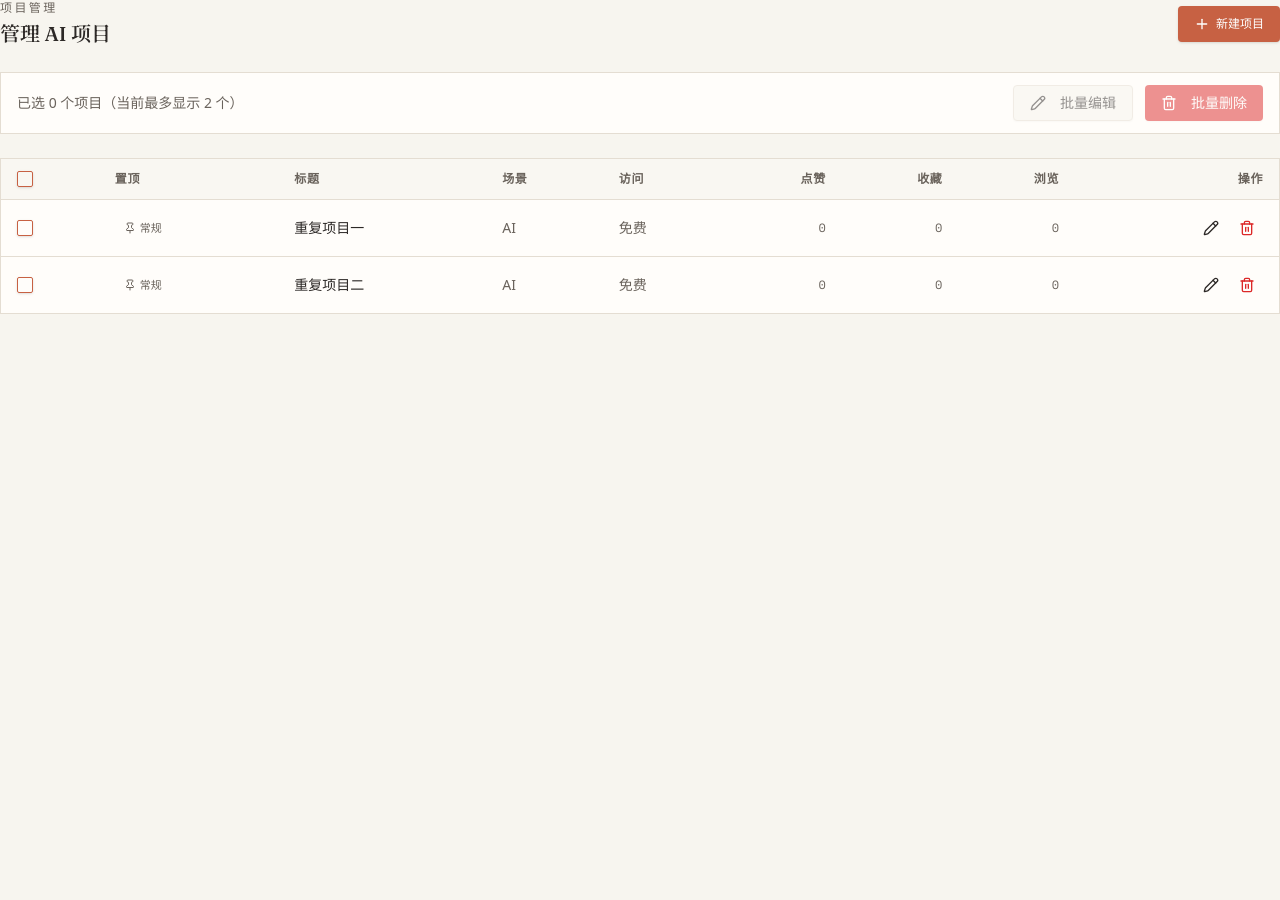
AdminProjects save › deletes only the selected projects after explicit confirmation
Click the checkbox named "选择项目 重复项目一" at (25, 228), box x1=17 y1=220 x2=33 y2=236
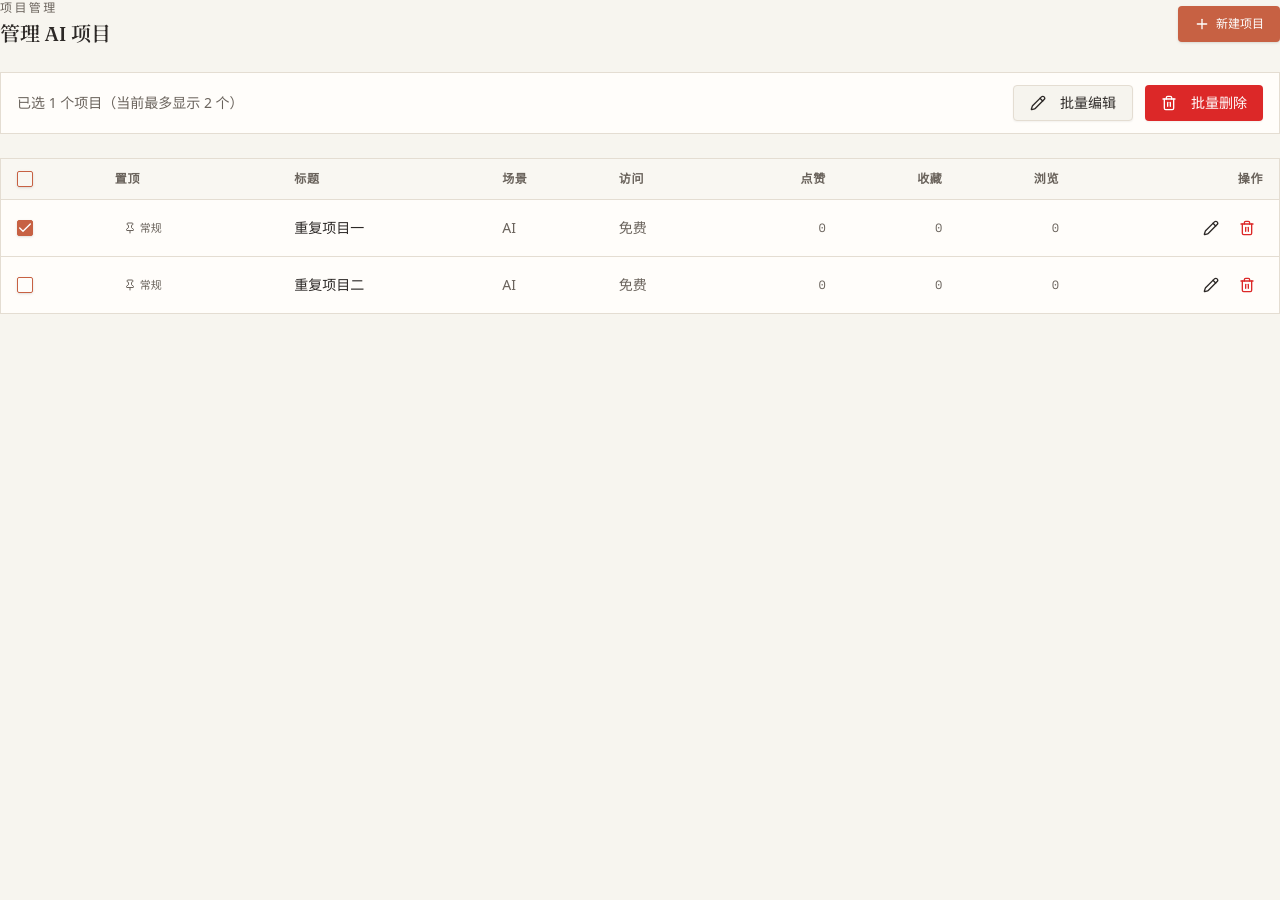
Click the button "批量删除" at (1204, 103), box x1=1145 y1=85 x2=1263 y2=121
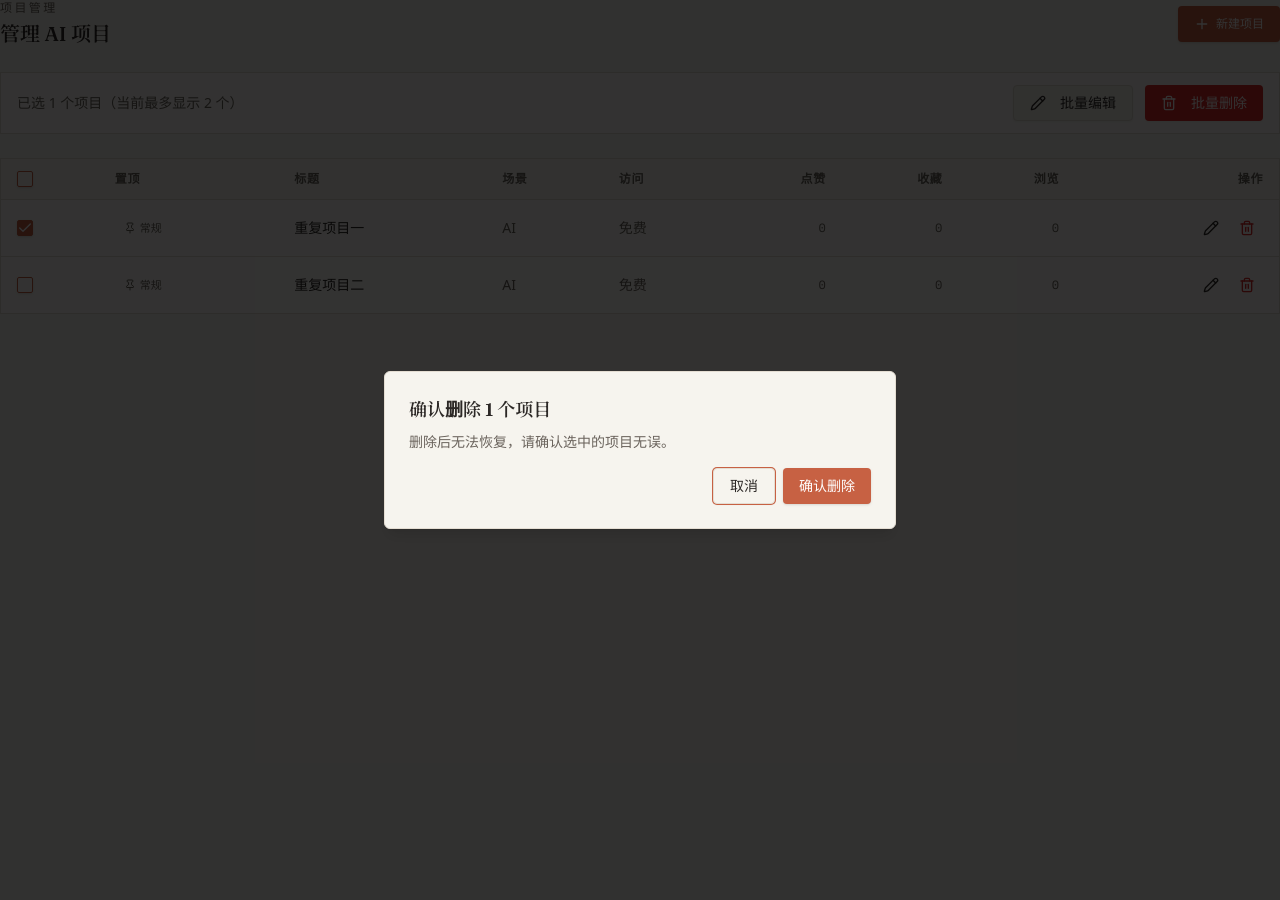
Click the button "确认删除" at (827, 486), box x1=783 y1=468 x2=871 y2=504
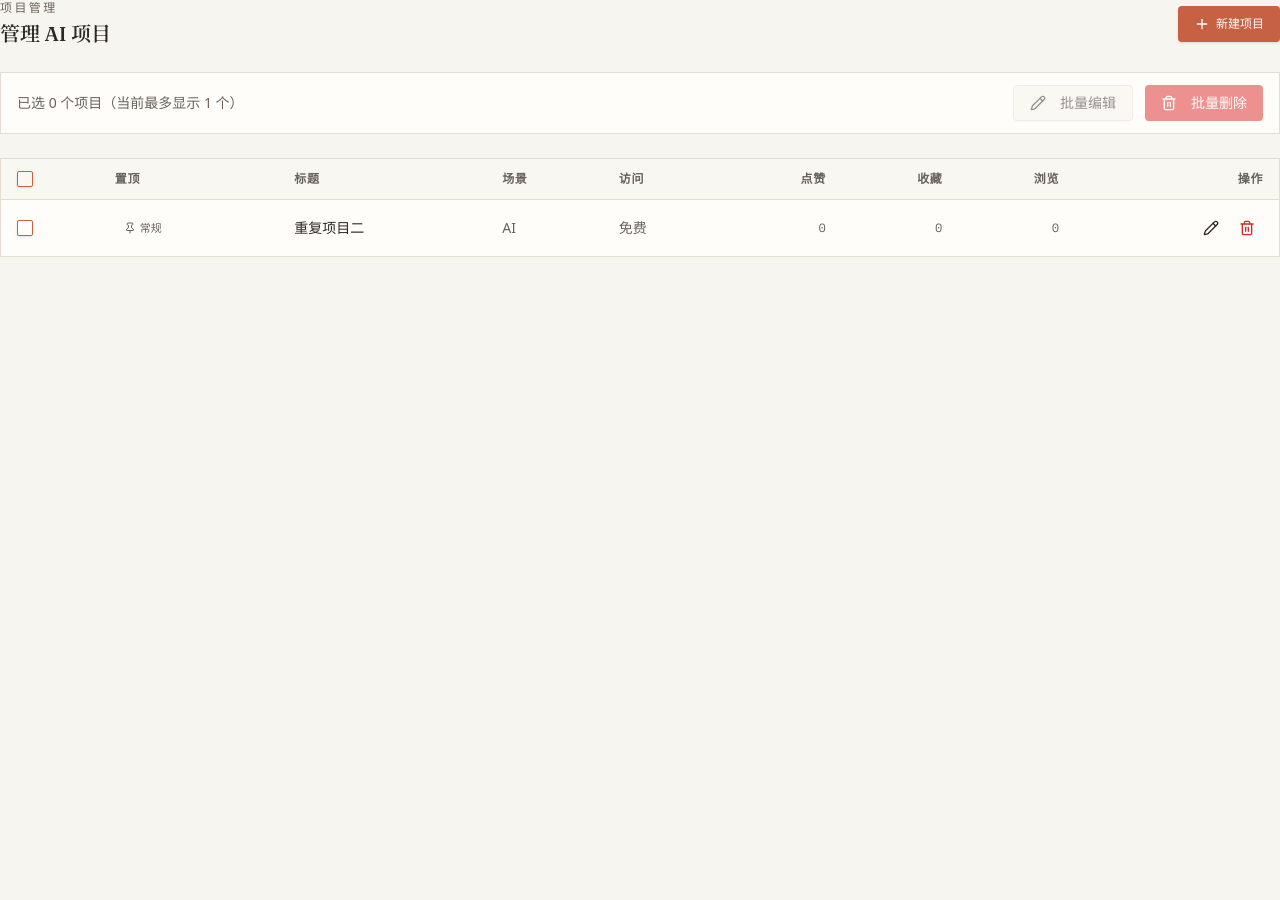
Expected: the text "重复项目二" is shown, x1=278 y1=200 x2=486 y2=256
Now the text "重复项目一" is gone
